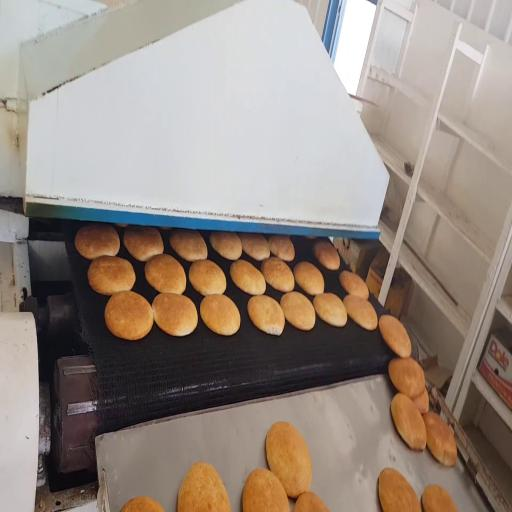bread: (266, 422, 311, 497), (178, 463, 230, 511), (105, 291, 153, 340), (391, 394, 426, 450), (152, 293, 197, 336), (243, 469, 289, 511), (423, 412, 457, 466), (88, 256, 135, 295), (379, 468, 421, 511), (200, 295, 240, 335), (145, 255, 186, 293), (75, 224, 119, 259), (248, 295, 285, 335), (389, 358, 425, 399), (379, 315, 411, 357), (280, 292, 315, 330), (124, 227, 163, 261), (189, 260, 226, 295), (230, 260, 266, 295), (170, 229, 208, 262), (343, 295, 377, 330), (313, 293, 347, 327), (261, 257, 294, 292), (294, 262, 324, 295), (422, 485, 457, 511), (210, 232, 242, 260), (239, 234, 270, 261), (340, 271, 369, 299), (314, 240, 340, 270), (294, 492, 329, 511), (269, 235, 294, 261), (121, 497, 164, 511), (413, 388, 429, 414), (116, 223, 128, 228), (306, 236, 316, 239), (161, 227, 171, 230)
